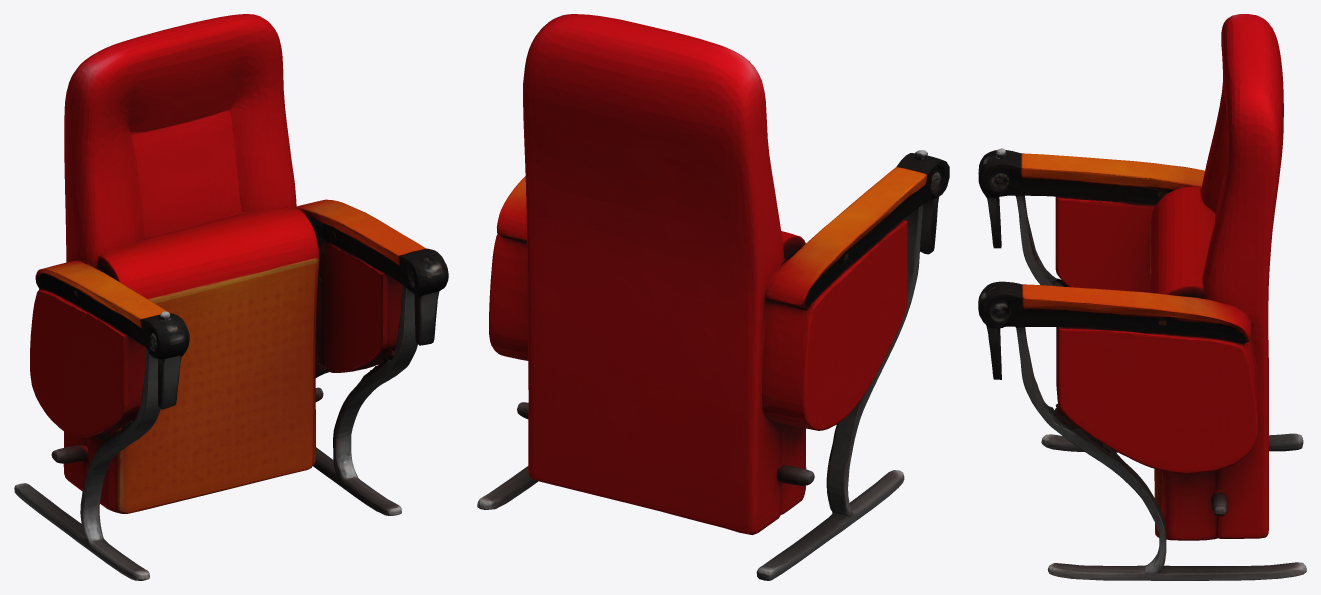
File: podium chairs.fbx
3 views of the same model, side by side, from view 1: azimuth 30°, elevation 25°; view 2: azimuth 150°, elevation 25°; view 3: azimuth 270°, elevation 25° (orthographic). The views are drawn at different scales.
Parts seen in each view (by area): view 1: world; view 2: world; view 3: world.
Boxes of the visible parts, x1,y1,x2,y2 form: world: [14, 14, 448, 580]; world: [477, 14, 949, 580]; world: [978, 14, 1306, 580].
Size of the model in its own units: 0.6674 by 0.9947 by 0.6307.
Materials: 1 (1 with a texture image).
